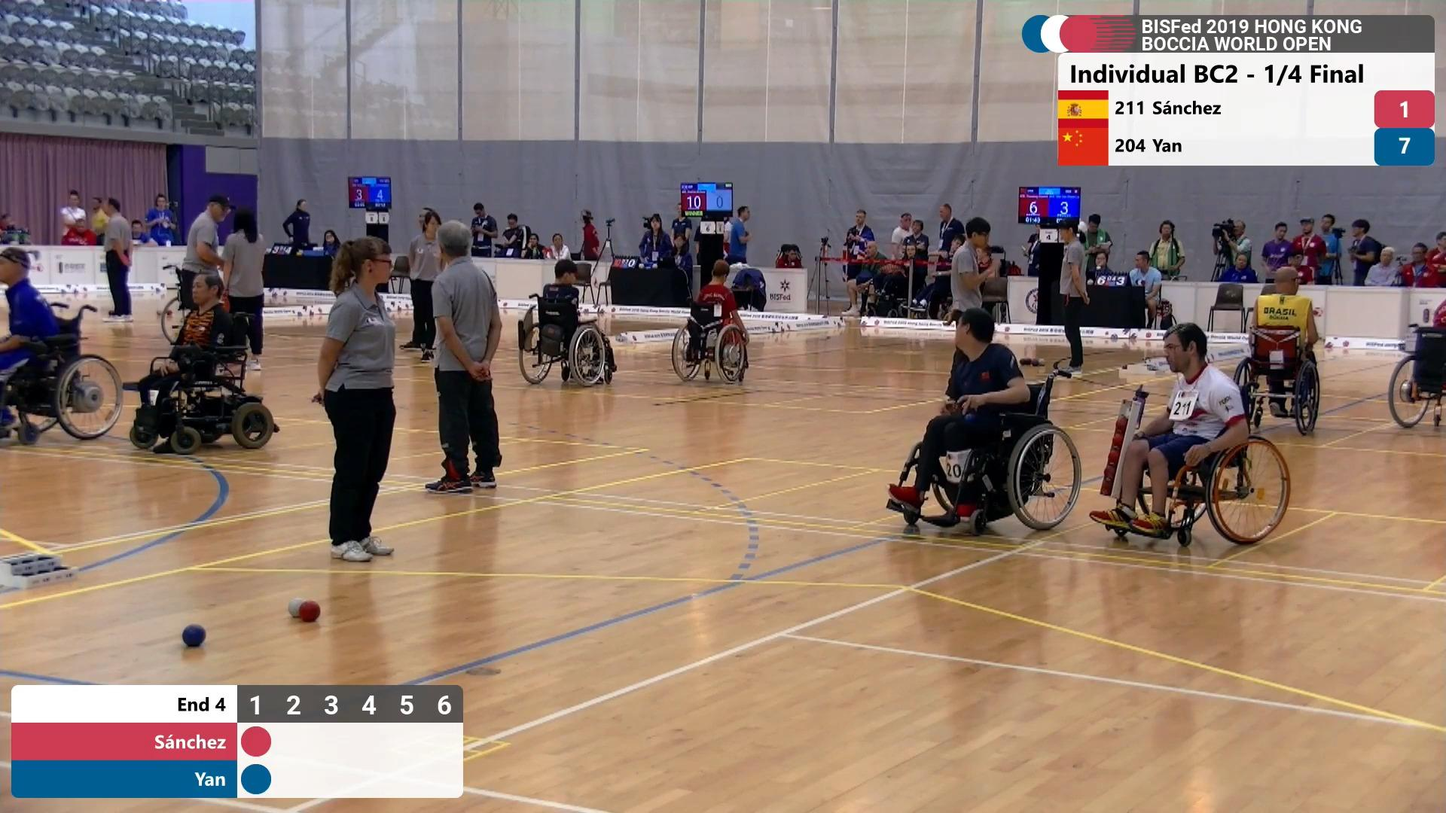blue_ball: (180, 622, 208, 649)
red_ball: (299, 599, 323, 624)
white_ball: (287, 596, 307, 619)
